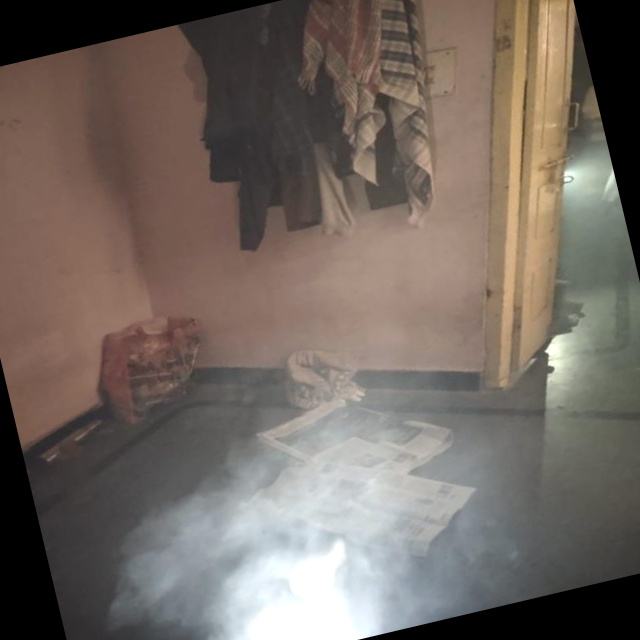smoke: (146, 447, 406, 640)
